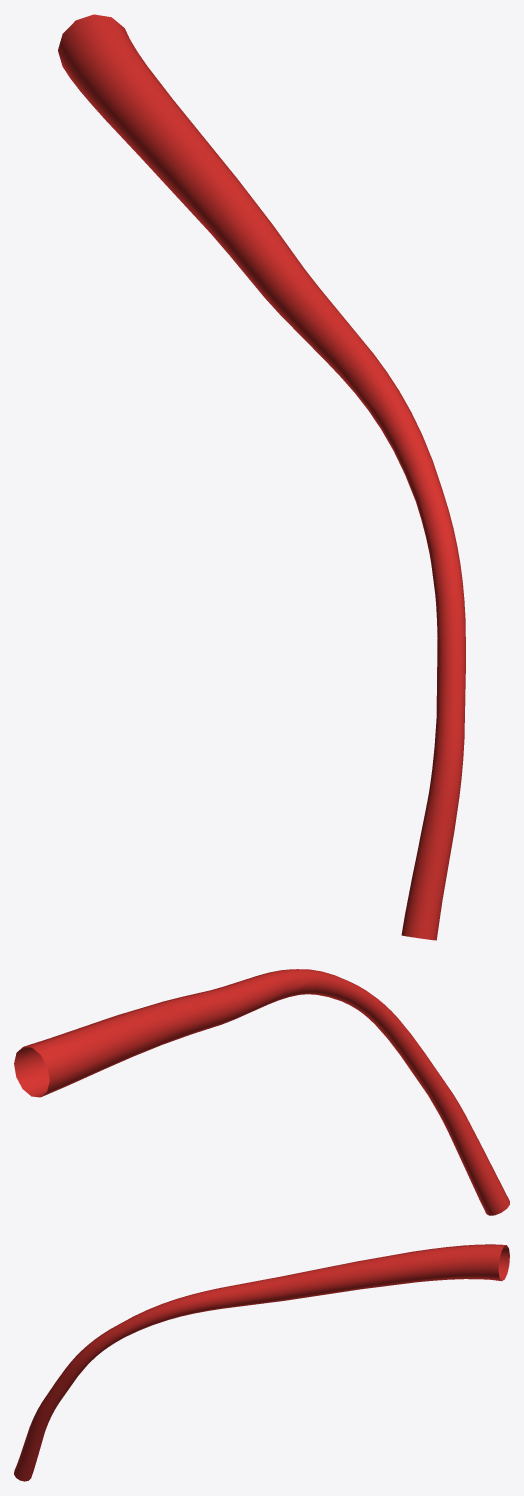
The model's file is circulatorio-infra-orbital-artery-l.glb.
3 renders of one model, top to bottom at view 1: azimuth 30°, elevation 25°; view 2: azimuth 150°, elevation 25°; view 3: azimuth 270°, elevation 25°, orthographic. The views are drawn at different scales.
Parts seen in each view (by area): view 1: Infra-orbital artery.l; view 2: Infra-orbital artery.l; view 3: Infra-orbital artery.l.
Boxes of the visible parts, bbox=[...] form: Infra-orbital artery.l: bbox=[58, 14, 465, 940]; Infra-orbital artery.l: bbox=[14, 969, 509, 1215]; Infra-orbital artery.l: bbox=[14, 1244, 509, 1481].
Bounding box in the file's own units: 0.00634 × 0.0163 × 0.0271.
